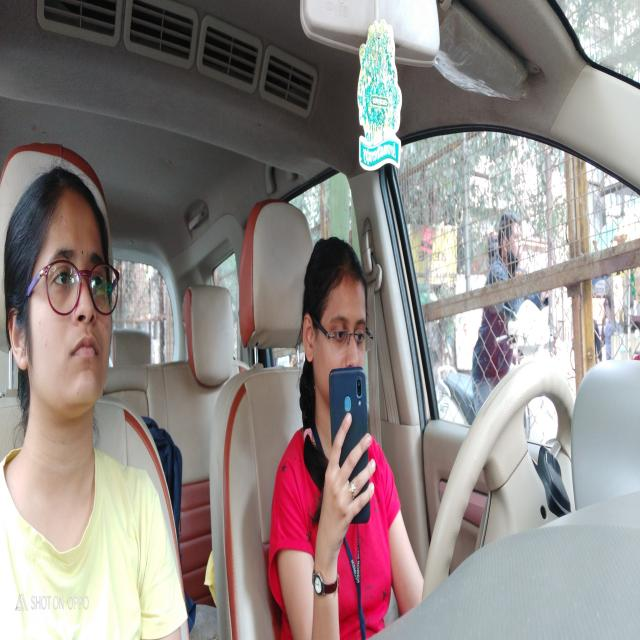mobile: (326, 361, 376, 550)
person: (5, 149, 124, 458), (296, 230, 376, 432)
